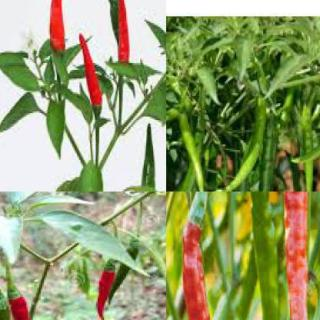green_chilli: (212, 93, 268, 191), (248, 192, 276, 319), (106, 244, 146, 306), (288, 90, 320, 165), (178, 114, 208, 191), (255, 121, 281, 190), (140, 121, 156, 190), (303, 107, 314, 191), (98, 0, 119, 41)
